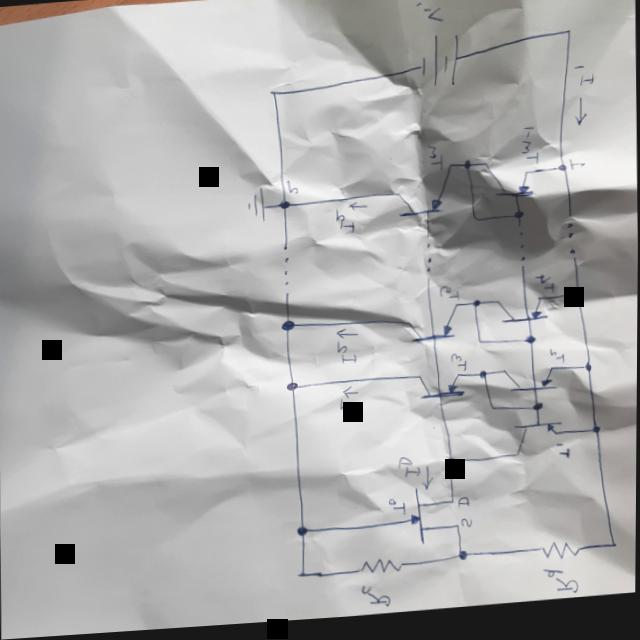ground: (247, 191, 269, 226)
junction: (287, 383, 301, 396), (297, 528, 311, 541), (281, 323, 296, 334), (458, 554, 470, 567), (514, 214, 526, 227), (268, 91, 281, 103), (280, 202, 291, 214), (525, 341, 537, 352), (447, 461, 458, 472), (532, 408, 544, 418), (299, 573, 309, 584), (479, 375, 489, 385), (592, 432, 602, 442), (574, 297, 584, 307), (610, 547, 620, 557), (558, 169, 568, 179), (472, 304, 482, 313), (584, 370, 594, 379), (564, 34, 574, 43), (464, 166, 472, 175), (489, 410, 497, 418), (476, 344, 484, 351), (473, 221, 480, 228)
resistor: (540, 546, 581, 569), (359, 561, 405, 581)
source: (420, 40, 459, 95)
text: (543, 574, 581, 603), (518, 132, 542, 172), (360, 587, 391, 613), (416, 0, 445, 27), (400, 460, 422, 483), (340, 402, 362, 423), (386, 499, 407, 520), (575, 70, 595, 92), (337, 347, 357, 368), (335, 214, 356, 234), (427, 149, 443, 175), (536, 279, 556, 299), (438, 288, 460, 305), (451, 357, 470, 376), (554, 449, 572, 467), (549, 354, 568, 370), (570, 165, 586, 178), (287, 183, 299, 197), (460, 523, 473, 535), (458, 502, 470, 513)
transistor: (393, 164, 454, 225), (410, 490, 461, 549), (406, 310, 460, 348), (484, 164, 533, 205), (513, 425, 563, 464), (417, 377, 465, 409), (506, 373, 556, 399), (496, 303, 546, 328)
